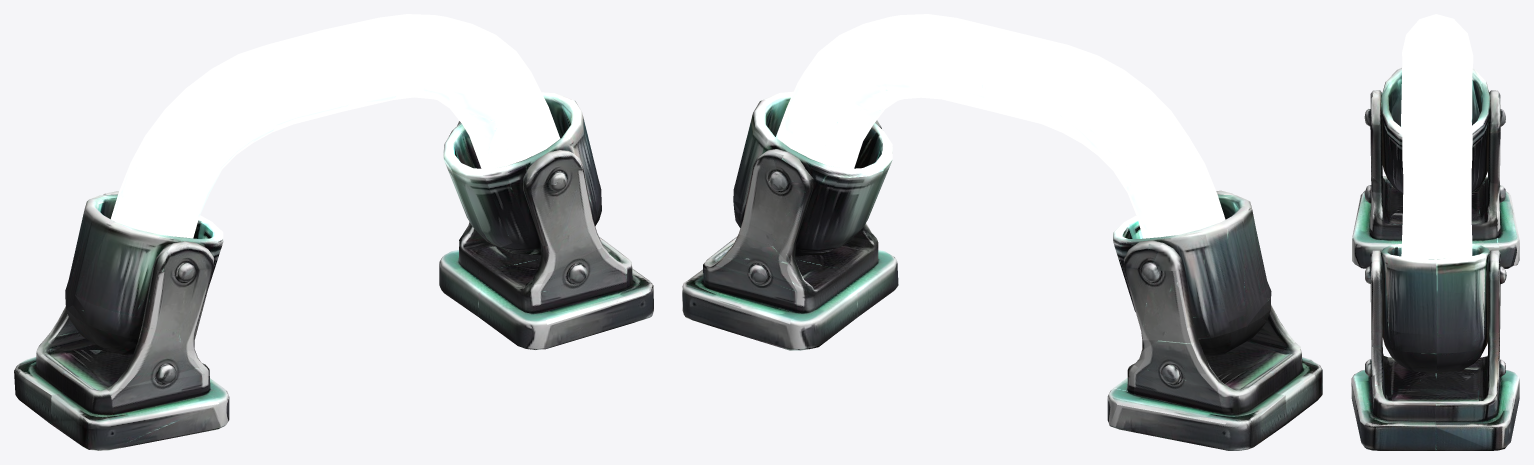
File: fluorescent_tube.glb
3 views of the same model, side by side, from view 1: azimuth 30°, elevation 25°; view 2: azimuth 150°, elevation 25°; view 3: azimuth 270°, elevation 25° (orthographic). The views are drawn at different scales.
Size of the model in its own units: 1 by 0.5449 by 0.2969.
Materials: 1 (1 with a texture image).
